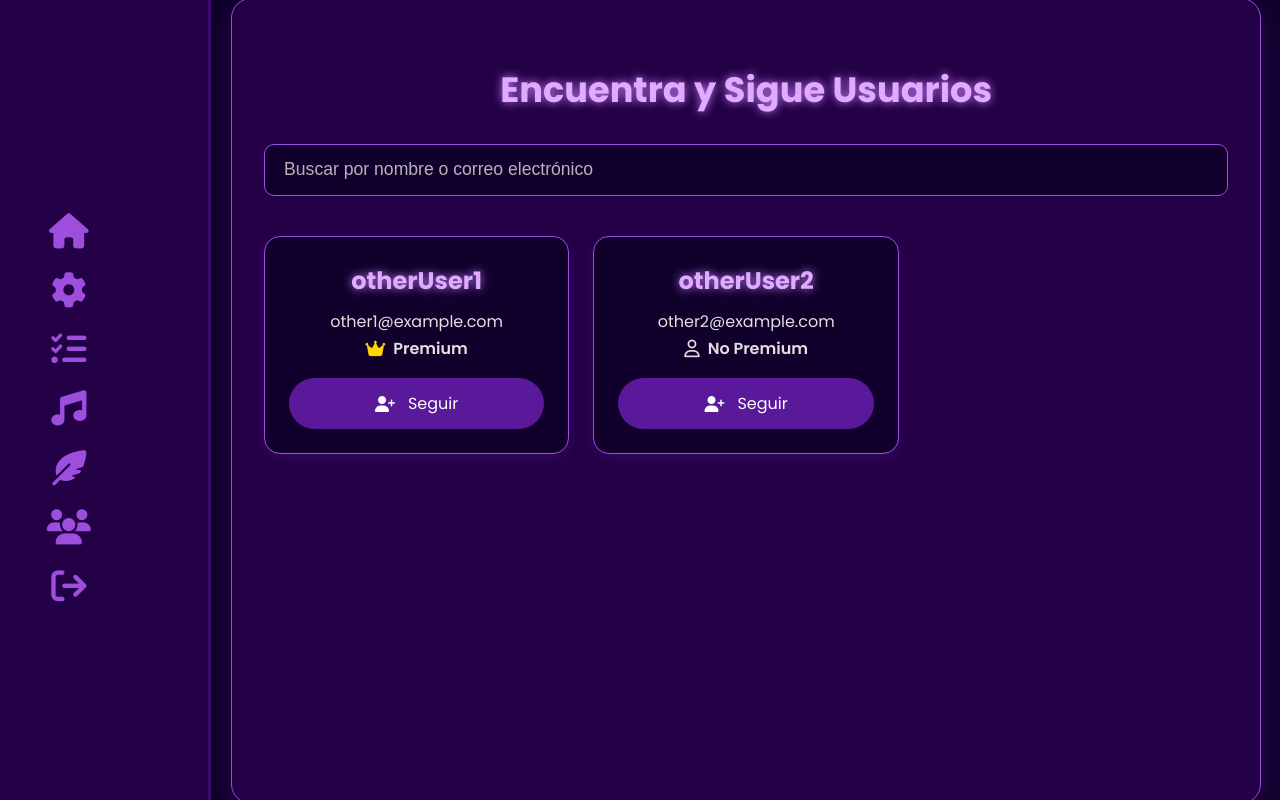
User Follows Tests › debe permitir seguir y dejar de seguir a los usuarios
This screenshot has width=1280, height=800.
Click the button with class "follow-button" below "other1@example.com" at (417, 404), box x1=289 y1=378 x2=545 y2=429
(page scrolled)
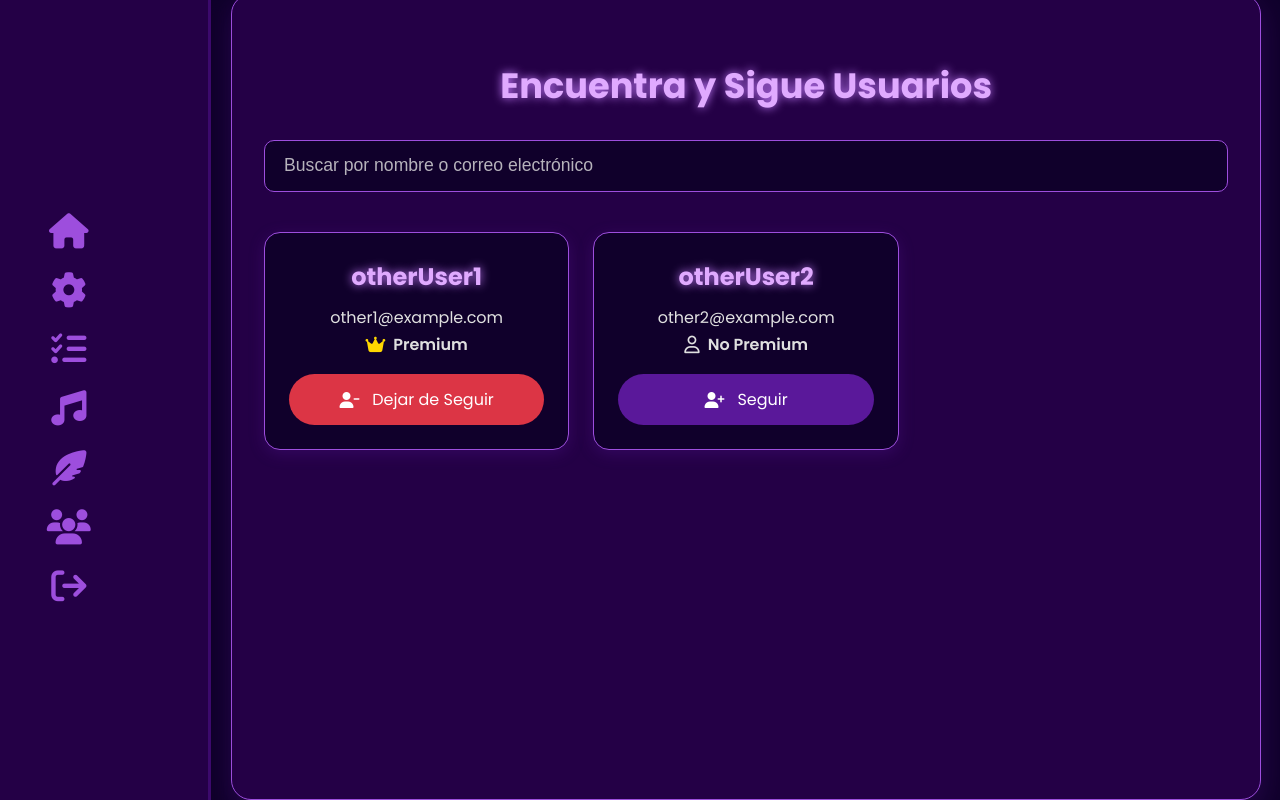
Expected: the button with class "follow-button" reads "Dejar de Seguir"
Click the button with class "follow-button" showing "Dejar de Seguir" at (417, 400), box x1=289 y1=374 x2=545 y2=425
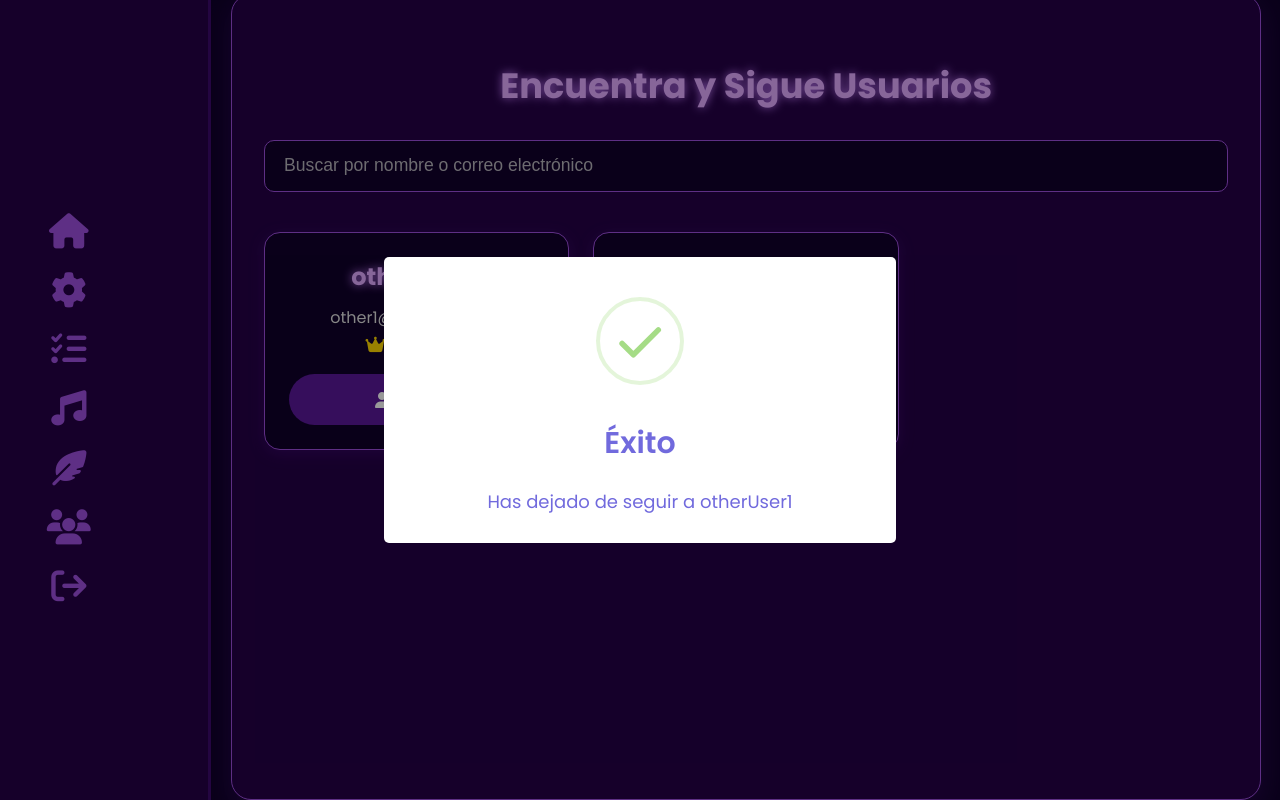
Expected: the dialog with class "swal2-popup" is shown, x1=384 y1=257 x2=896 y2=544
